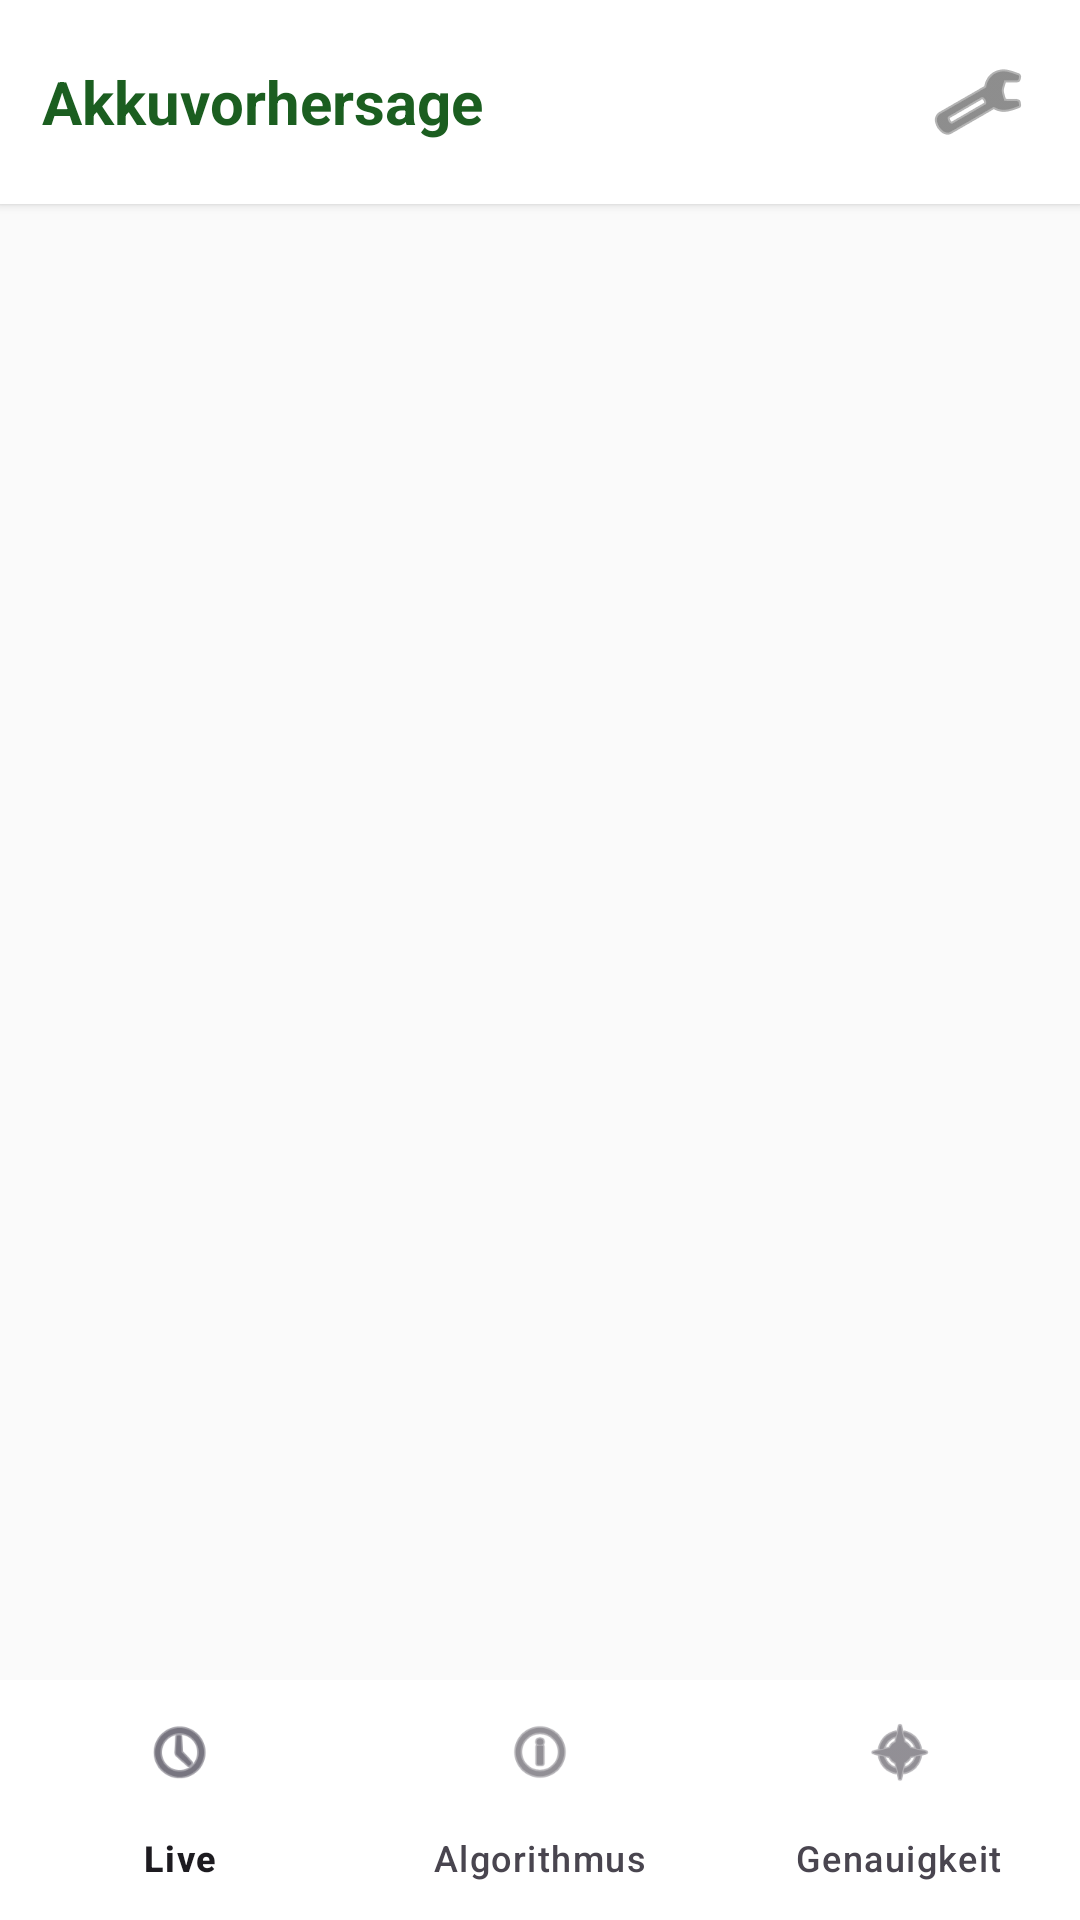

Point at icon controls on the screen. Image size 1080px×1920px, points as (x=x, y=y).
Einstellungen: (x=978, y=102)
